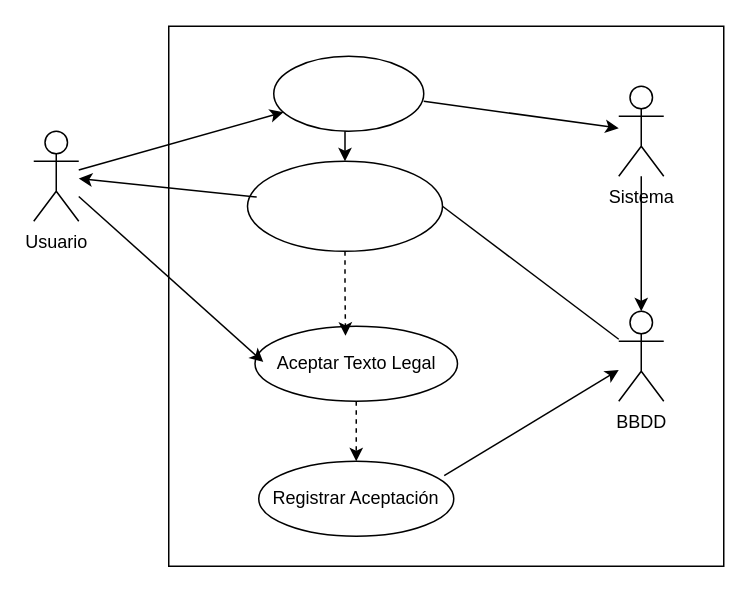
Some shapes in this 750 by 593 pixel diagram are drawn without their labels. Each missing label, with the centre of its shape:
"Iniciar sesión" belongs at point 348,93.
"Mostrar texto legal" belongs at point 344,205.
